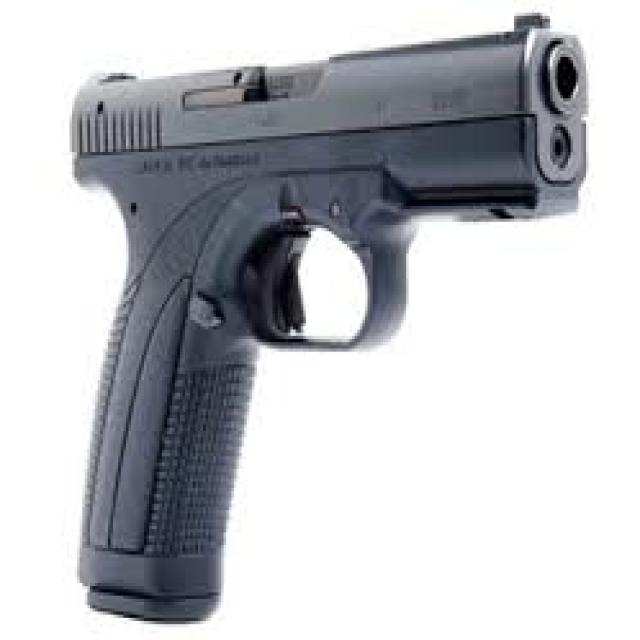Gun: (25, 13, 598, 628)
